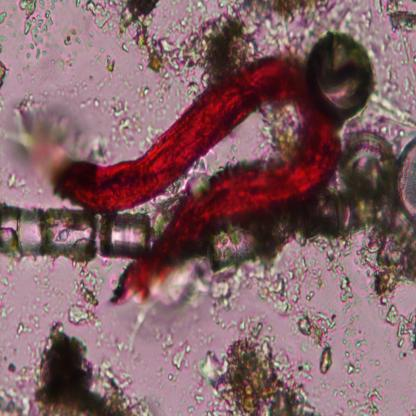Background material: (32, 320, 156, 416), (195, 326, 320, 416), (163, 0, 250, 94), (10, 92, 108, 164), (338, 272, 384, 414), (84, 0, 167, 78), (149, 267, 241, 328), (359, 210, 416, 300), (259, 251, 326, 314), (339, 128, 394, 199), (290, 302, 335, 374), (240, 0, 334, 32), (66, 260, 102, 332), (260, 108, 300, 162), (381, 302, 416, 360), (0, 361, 37, 415), (19, 1, 52, 61), (366, 96, 414, 135), (106, 96, 142, 144), (374, 0, 416, 33), (138, 84, 174, 122), (170, 341, 192, 372), (21, 298, 53, 318), (0, 274, 13, 320), (30, 267, 46, 297), (6, 170, 26, 194), (157, 332, 176, 357), (94, 50, 114, 71), (156, 365, 176, 383), (62, 27, 80, 46), (396, 395, 414, 414), (0, 57, 10, 91), (14, 320, 34, 337), (0, 10, 7, 25)
Cotton: (49, 53, 337, 302)
Diatom: (209, 183, 394, 272), (309, 30, 374, 118), (395, 132, 416, 224)
